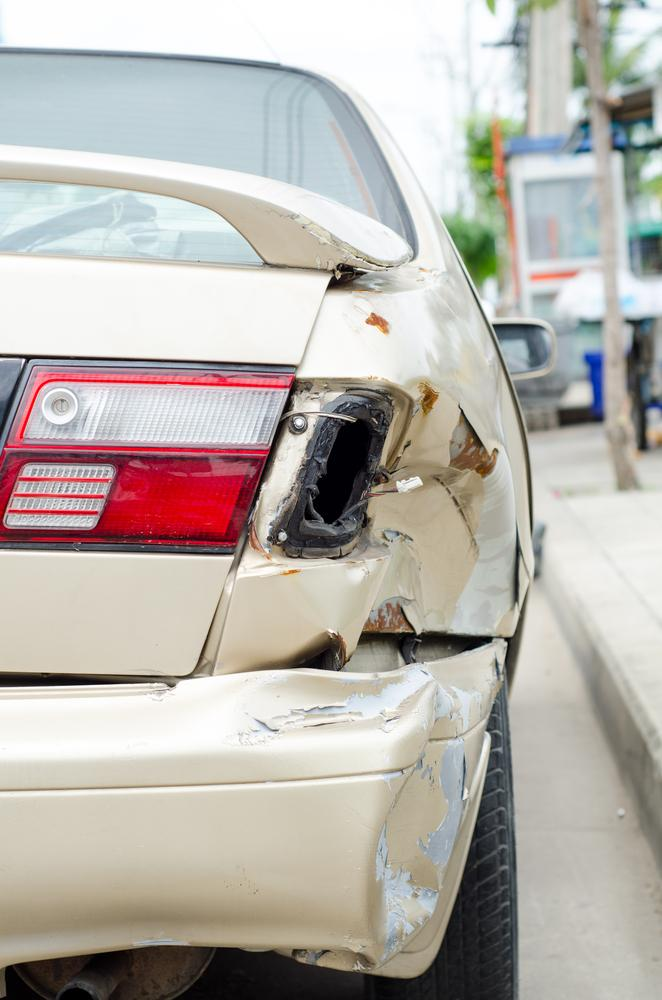dent: (360, 384, 516, 635), (369, 689, 466, 958)
